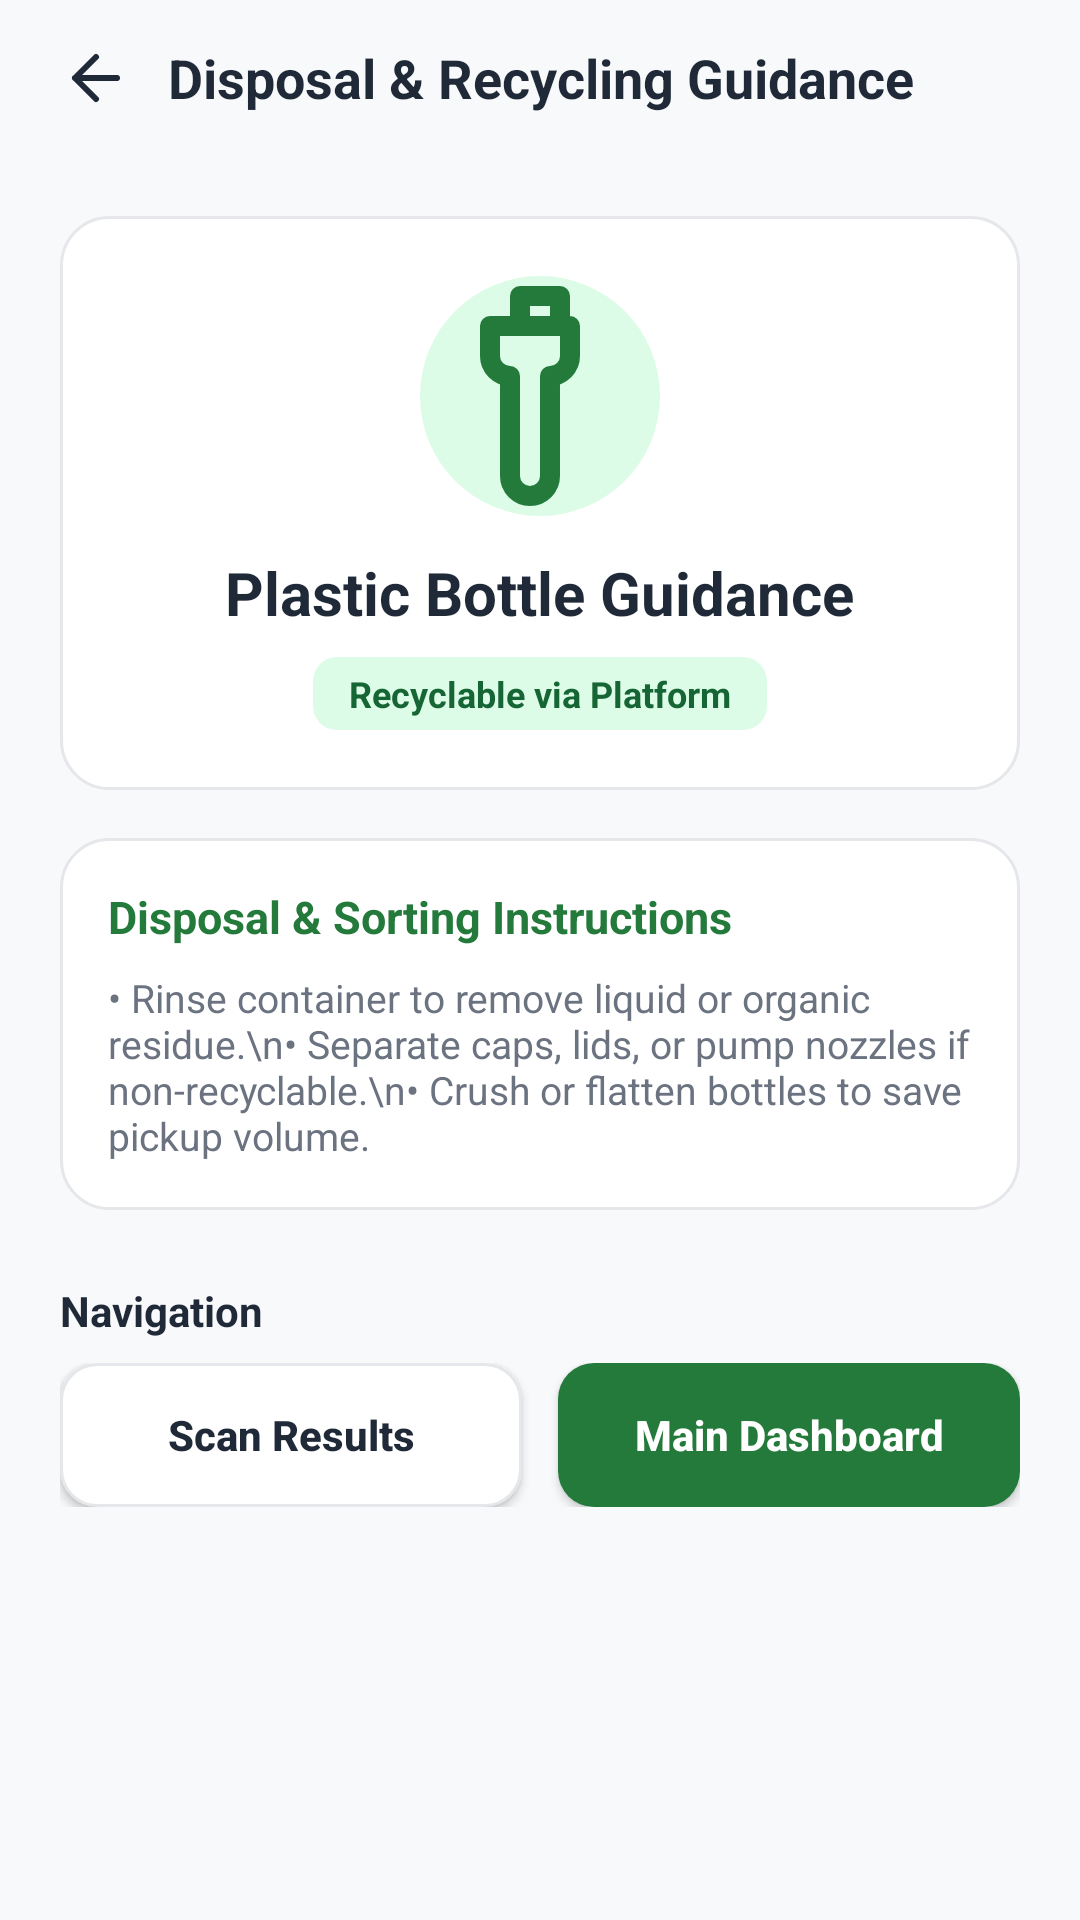

Screen size 1080x1920. Icon name, then its box in pixels as (x1, y1, x2, y2):
Back: (72, 54, 120, 102)
Waste category image: (420, 276, 660, 516)
